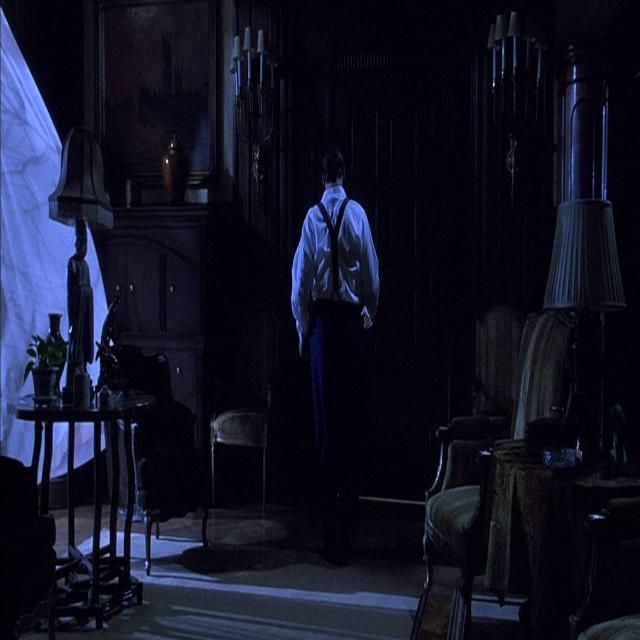People: (292, 116, 387, 547)
Table: (495, 400, 640, 639), (90, 166, 220, 394), (26, 353, 137, 606)
chair: (424, 311, 591, 618), (109, 310, 205, 586), (212, 308, 287, 538), (0, 433, 77, 640)
